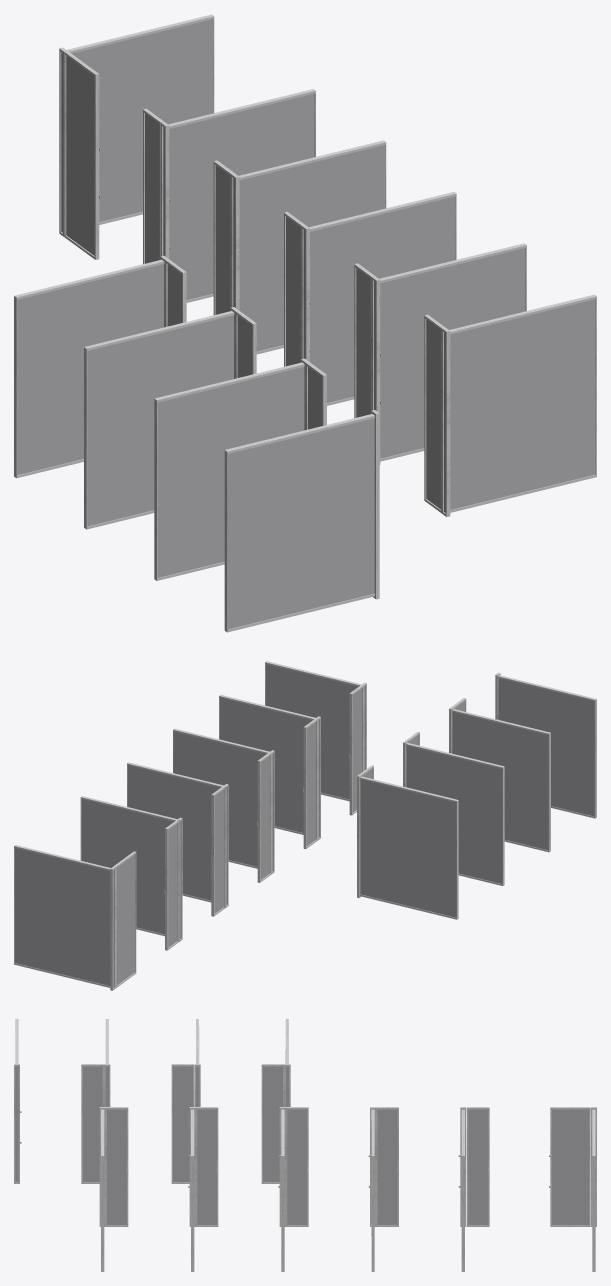
The model's file is ToiletStructures.fbx.
The picture shows the model from 3 angles, top to bottom: view 1: azimuth 30°, elevation 25°; view 2: azimuth 150°, elevation 25°; view 3: azimuth 270°, elevation 25°; orthographic projection. The views are drawn at different scales.
Visible parts, largest first — view 1: StructuresToilets, StructuresToiletsFemale; view 2: StructuresToilets, StructuresToiletsFemale; view 3: StructuresToilets, StructuresToiletsFemale.
Part boxes in pixels (box(x1,y1,x2,y2)): StructuresToilets: box(59, 14, 596, 516); StructuresToiletsFemale: box(14, 255, 379, 632); StructuresToilets: box(14, 661, 366, 990); StructuresToiletsFemale: box(357, 672, 596, 919); StructuresToilets: box(99, 1107, 596, 1271); StructuresToiletsFemale: box(14, 1019, 290, 1183).
Bounding box in the file's own units: 8.05 × 14.5 × 3.26.
